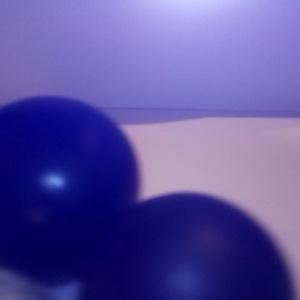dead_ball: (1, 97, 139, 286), (79, 193, 300, 300)
